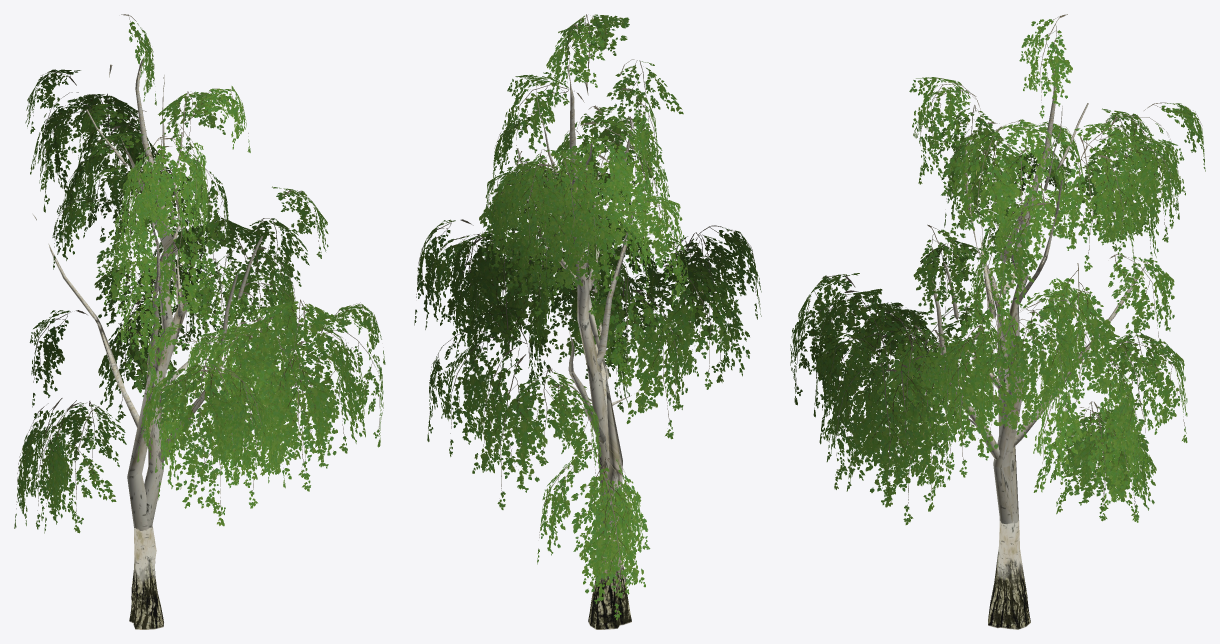
File: fab-bjorkar.glb
3 views of the same model, side by side, from view 1: azimuth 30°, elevation 25°; view 2: azimuth 150°, elevation 25°; view 3: azimuth 270°, elevation 25° (orthographic). The views are drawn at different scales.
Visible parts, largest first — view 1: bjork1-lov, bjork2-lov, bjork1-bark, bjork2-bark; view 2: bjork1-lov, bjork2-lov, bjork1-bark, bjork2-bark; view 3: bjork1-lov, bjork2-lov, bjork1-bark, bjork2-bark.
Boxes of the visible parts, x1,y1,x2,y2 form: bjork1-lov: (14, 86, 385, 629); bjork2-lov: (25, 14, 328, 623); bjork1-bark: (32, 59, 237, 529); bjork2-bark: (86, 64, 262, 530); bjork1-lov: (425, 14, 761, 625); bjork2-lov: (414, 24, 692, 629); bjork1-bark: (517, 65, 640, 523); bjork2-bark: (536, 82, 632, 526); bjork1-lov: (790, 77, 1187, 628); bjork2-lov: (873, 14, 1205, 629); bjork1-bark: (930, 69, 1168, 524); bjork2-bark: (944, 60, 1088, 523).
Size of the model in its own units: 5.24 by 11.66 by 7.19.
Materials: 2 (2 with a texture image).
